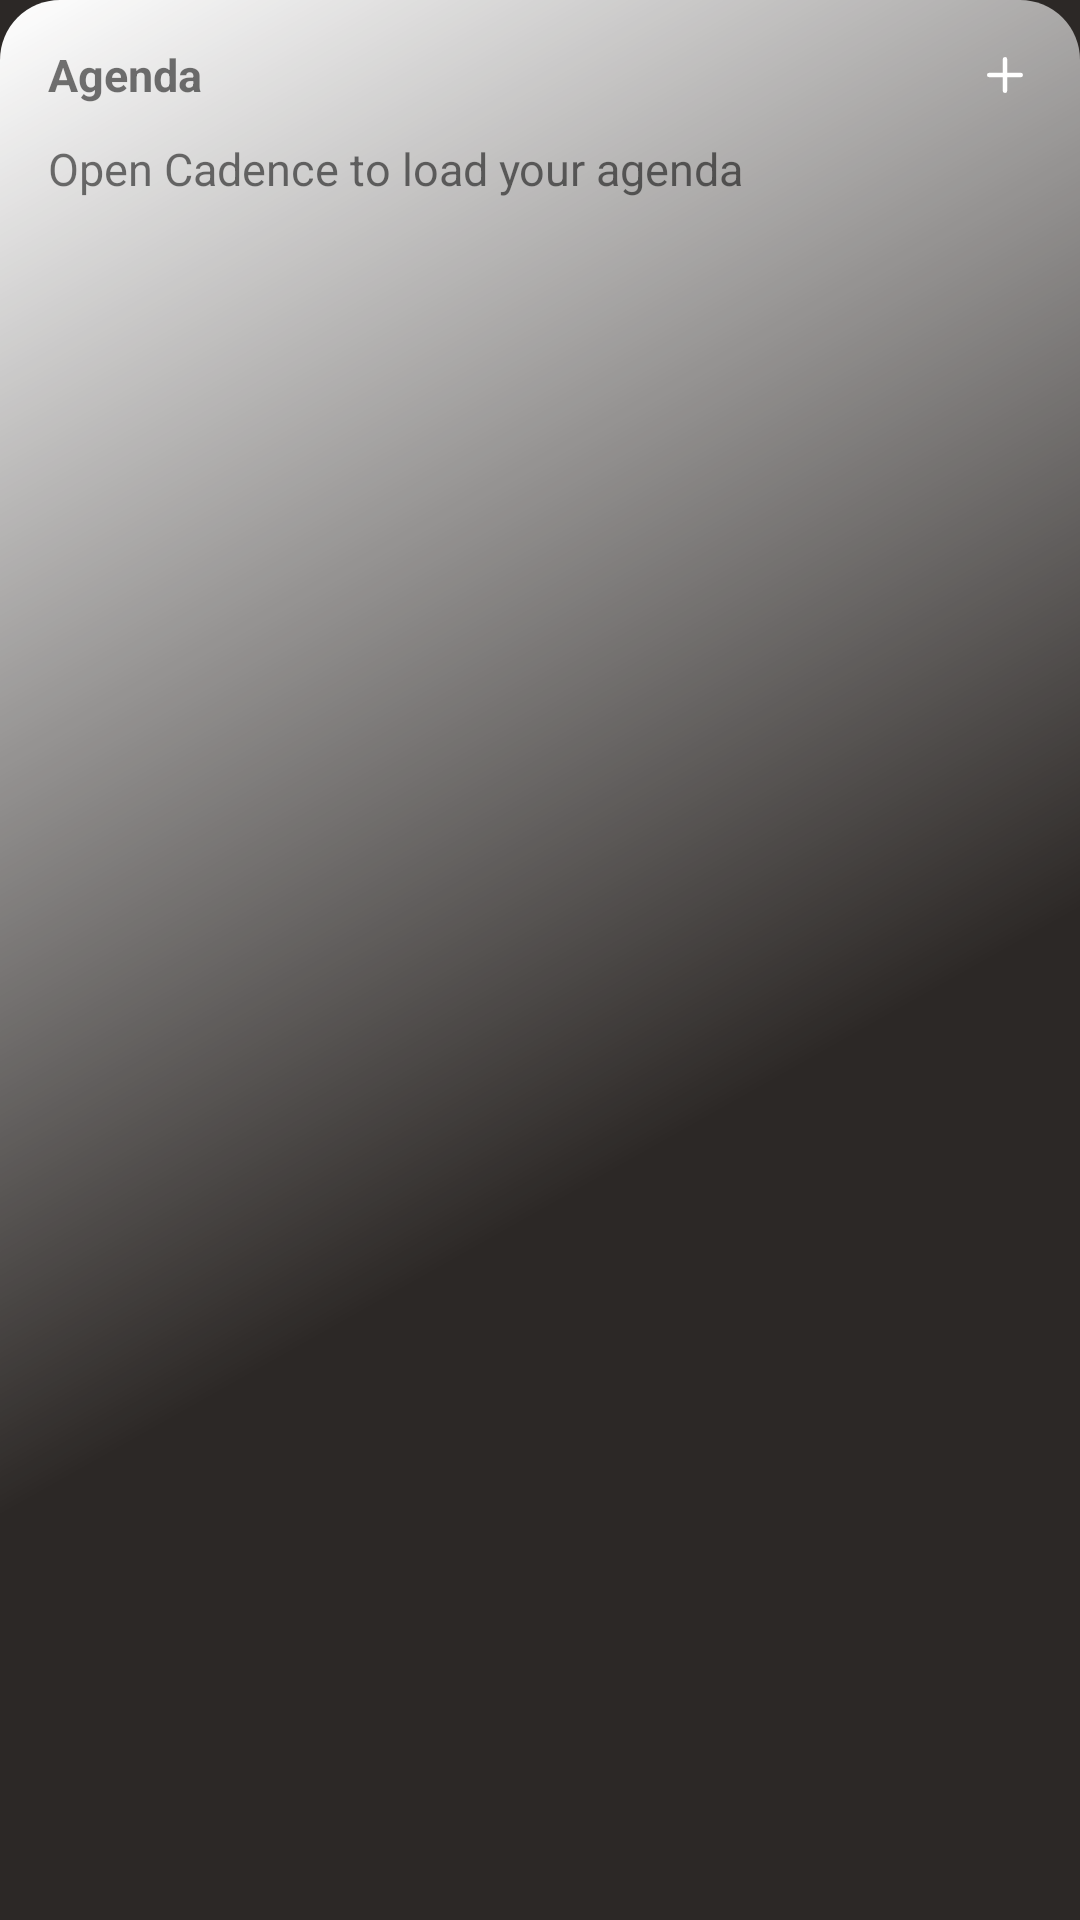

Where to tap for icons on this 1080px×1920px app screen, as (x,y):
Add: (1005,75)
